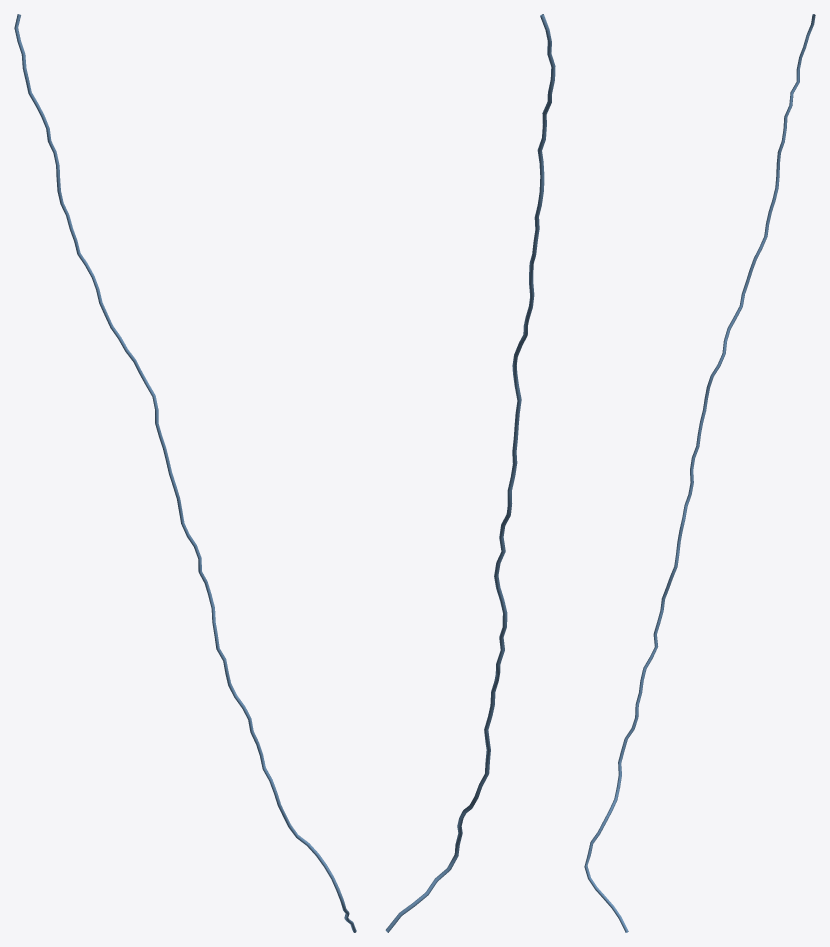
File: sweep278.fbx
3 renders of one model, left to right at view 1: azimuth 30°, elevation 25°; view 2: azimuth 150°, elevation 25°; view 3: azimuth 270°, elevation 25°, orthographic. The views are drawn at different scales.
Parts seen in each view (by area): view 1: sweep278; view 2: sweep278; view 3: sweep278.
Boxes of the visible parts, <box> form: sweep278: <box>14,14,356,932</box>; sweep278: <box>385,14,555,932</box>; sweep278: <box>584,14,815,932</box>.
Bounding box in the file's own units: 1.47 × 5.28 × 1.36.
